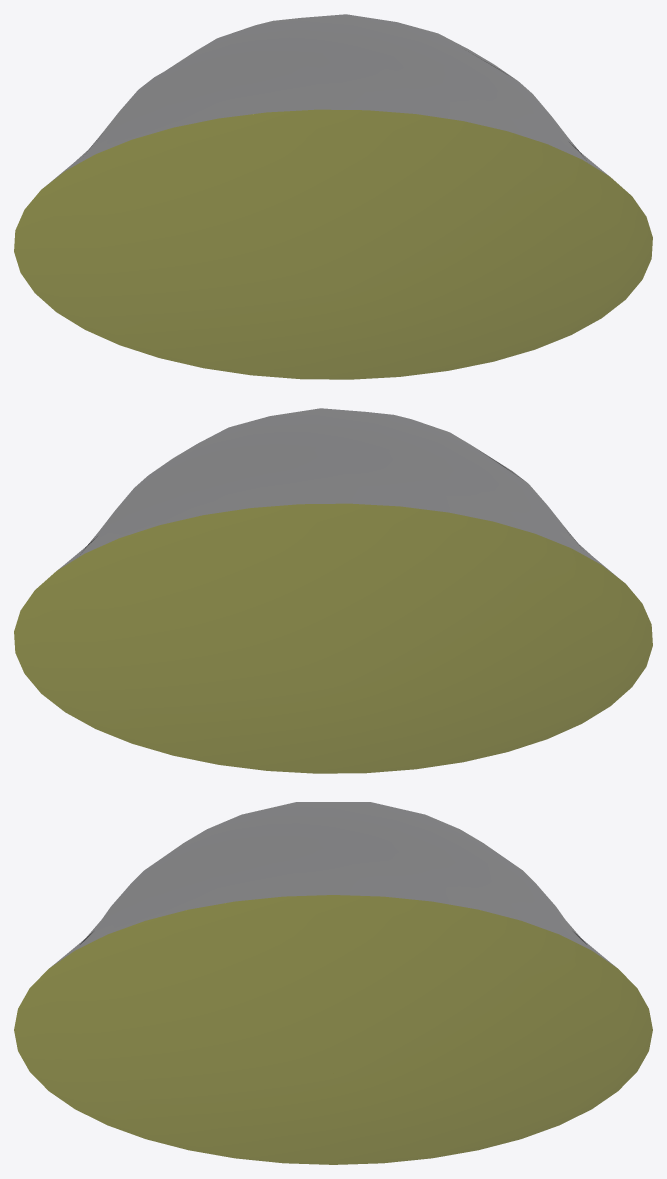
3 views of the same model, one above another, from view 1: azimuth 30°, elevation 25°; view 2: azimuth 150°, elevation 25°; view 3: azimuth 270°, elevation 25° (orthographic).
Parts seen in each view (by area): view 1: skydome2; view 2: skydome2; view 3: skydome2.
Part boxes in pixels (x1=…): skydome2: x1=14, y1=14, x2=652, y2=379; skydome2: x1=14, y1=408, x2=652, y2=773; skydome2: x1=14, y1=802, x2=652, y2=1164.
Size of the model in its own units: 4577 by 1950 by 4577.
Materials: 1 (1 with a texture image).
